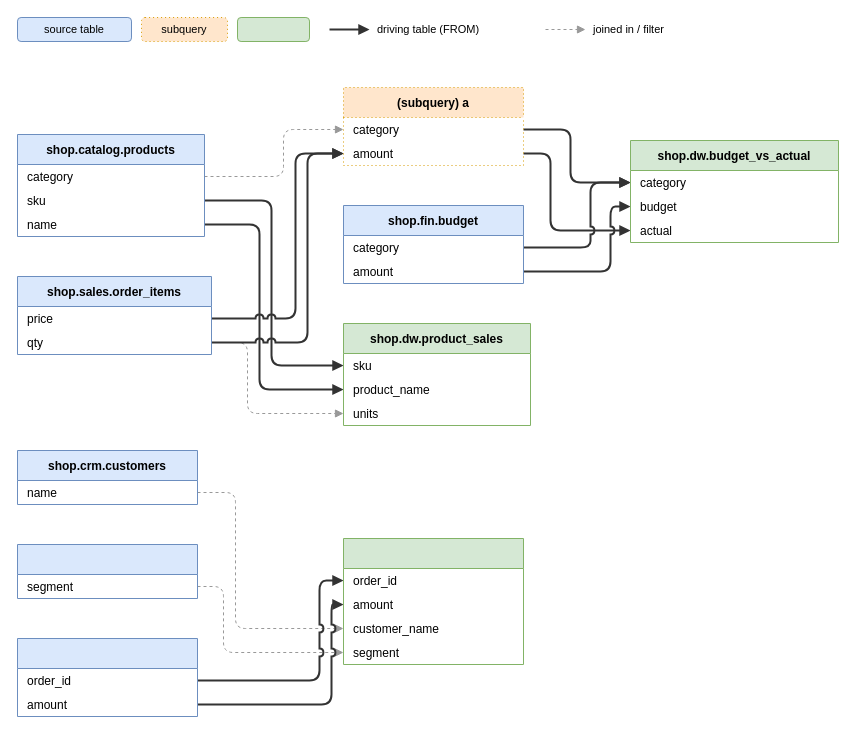
This 856x734 diagram has some shape labels left out. The box of each missing label's shape, as (x1, y1, x2, y2) in pixels:
shop.crm.segments: (16, 544, 198, 598)
shop.dw.order_report: (342, 538, 524, 664)
shop.sales.orders: (16, 638, 198, 716)
target: (236, 16, 310, 42)
